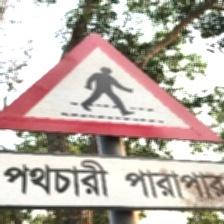Pedestrian-crossing: (0, 32, 222, 214)
